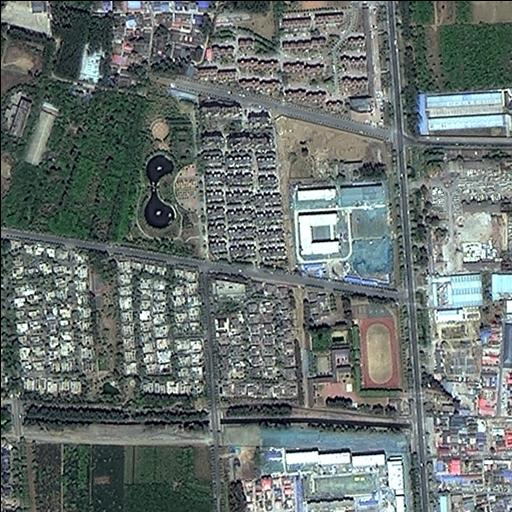school: (300, 291, 403, 422)
